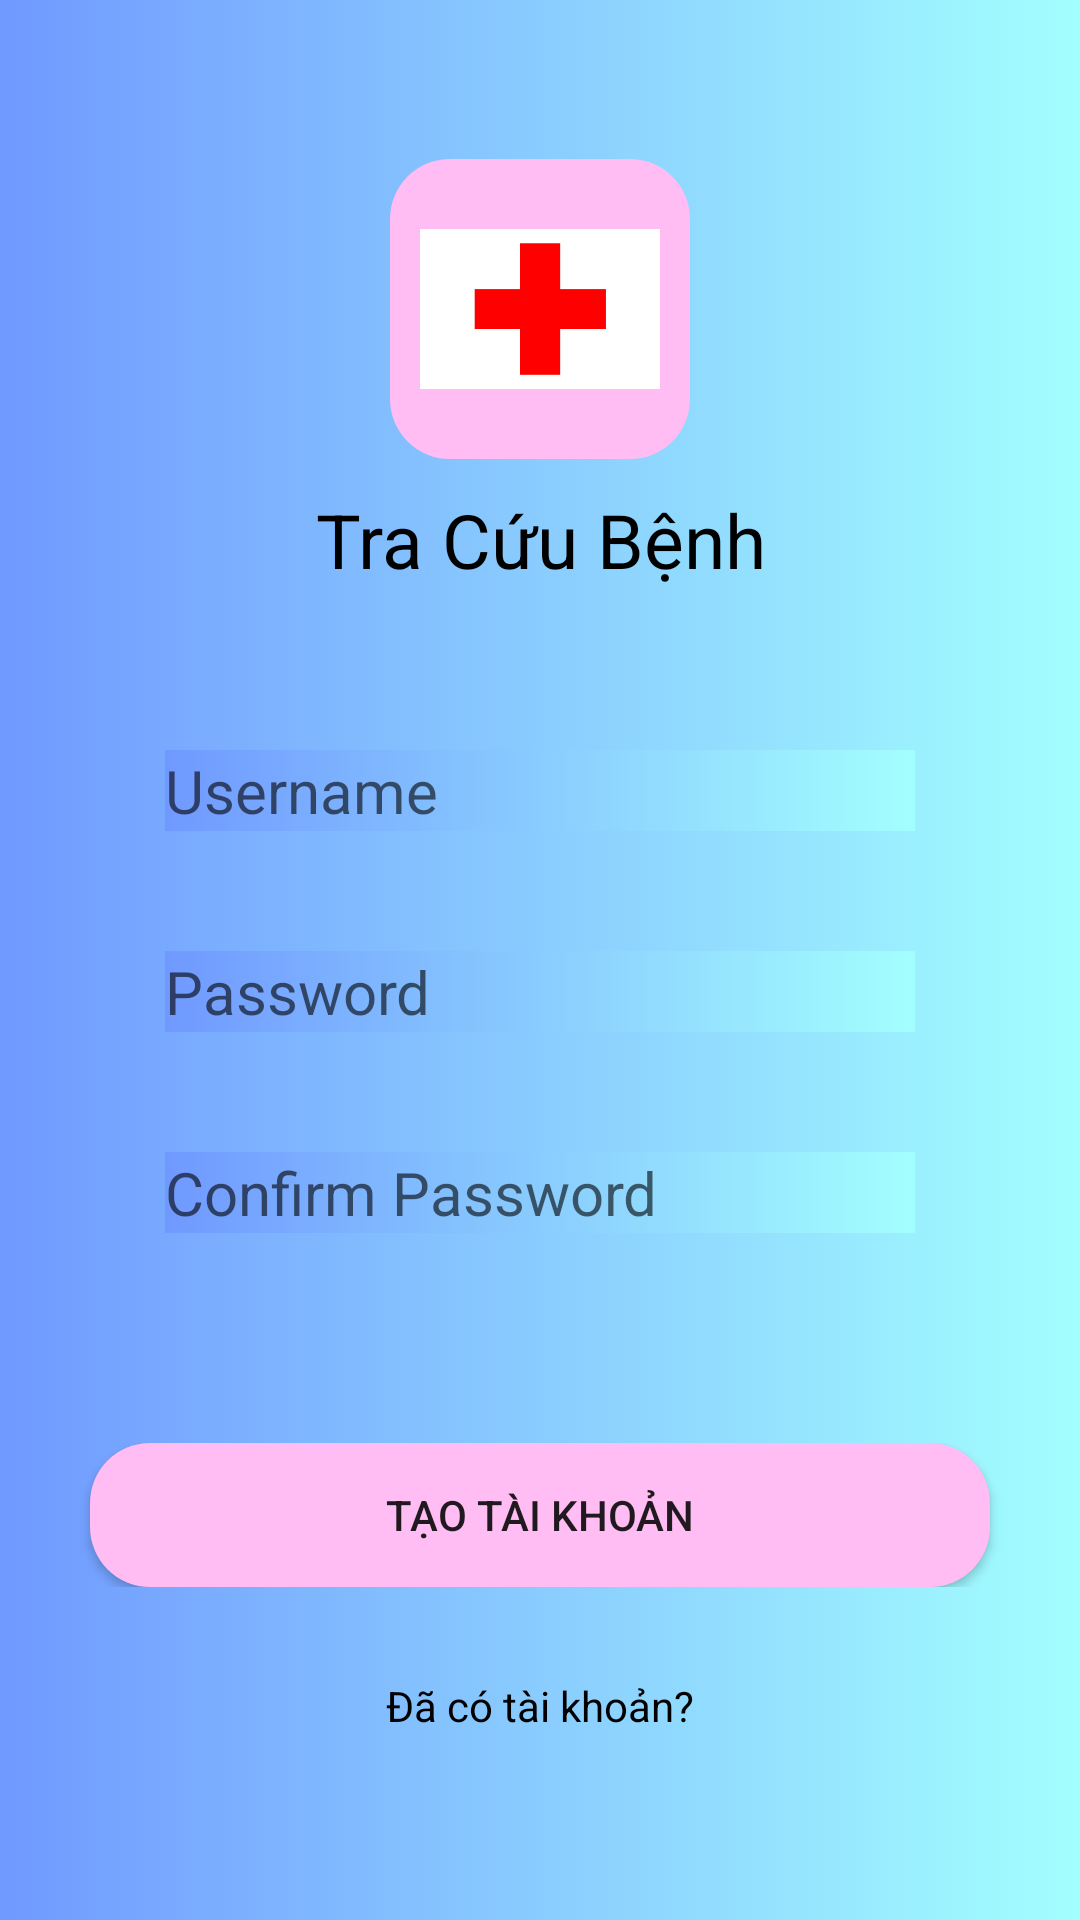

Screen size 1080w x 1920h. Icon name, then its box in pixels as box=[x1, y1, x2, y2]:
app: box=[390, 159, 690, 459]
